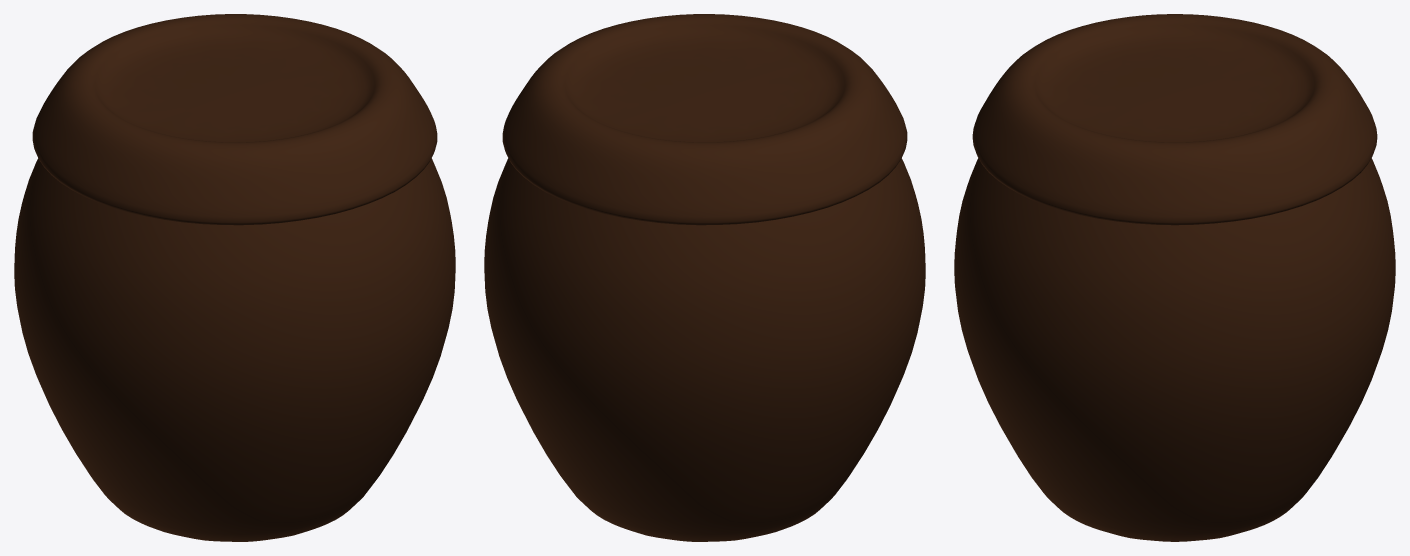
File: hangari.fbx
3 renders of one model, left to right at view 1: azimuth 30°, elevation 25°; view 2: azimuth 150°, elevation 25°; view 3: azimuth 270°, elevation 25°, orthographic.
Parts seen in each view (by area): view 1: Cylinder.001; view 2: Cylinder.001; view 3: Cylinder.001.
Boxes of the visible parts, <box> form: Cylinder.001: <box>14,14,455,541</box>; Cylinder.001: <box>484,14,925,541</box>; Cylinder.001: <box>954,14,1395,541</box>.
Bounding box in the file's own units: 185 × 191 × 185.
